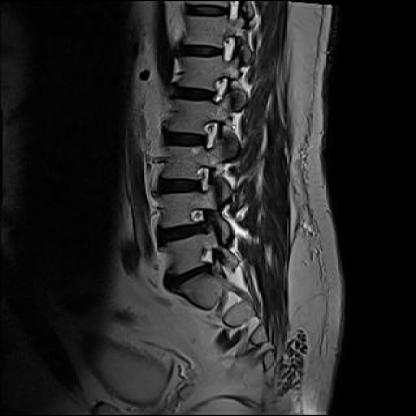Degenerative Disc Diseaserotation: (147, 215, 220, 246), (153, 259, 229, 285), (145, 172, 212, 196)
Disc Bulgerotation: (146, 215, 221, 246), (155, 259, 229, 284), (146, 173, 213, 197)
